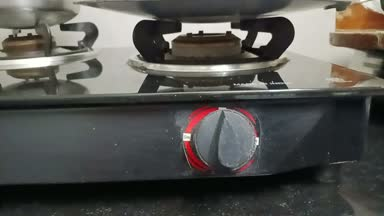noflame_gason: (149, 18, 280, 176)
